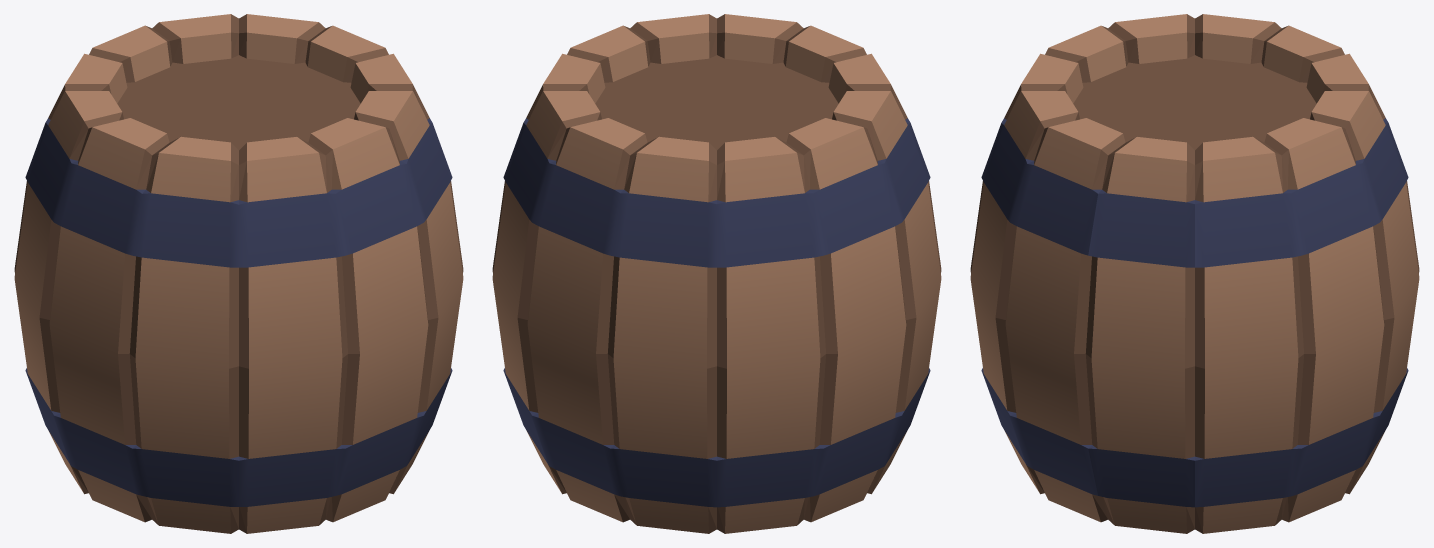
The picture shows the model from 3 angles, left to right: view 1: azimuth 30°, elevation 25°; view 2: azimuth 150°, elevation 25°; view 3: azimuth 270°, elevation 25°; orthographic projection.
Visible parts, largest first — view 1: MT_01; view 2: MT_01; view 3: MT_01.
Boxes of the visible parts, box(x1,y1,x2,y2) form: MT_01: box(14, 14, 463, 533); MT_01: box(492, 14, 941, 533); MT_01: box(970, 14, 1419, 533).
Bounding box in the file's own units: 0.5087 × 0.4662 × 0.5087.
